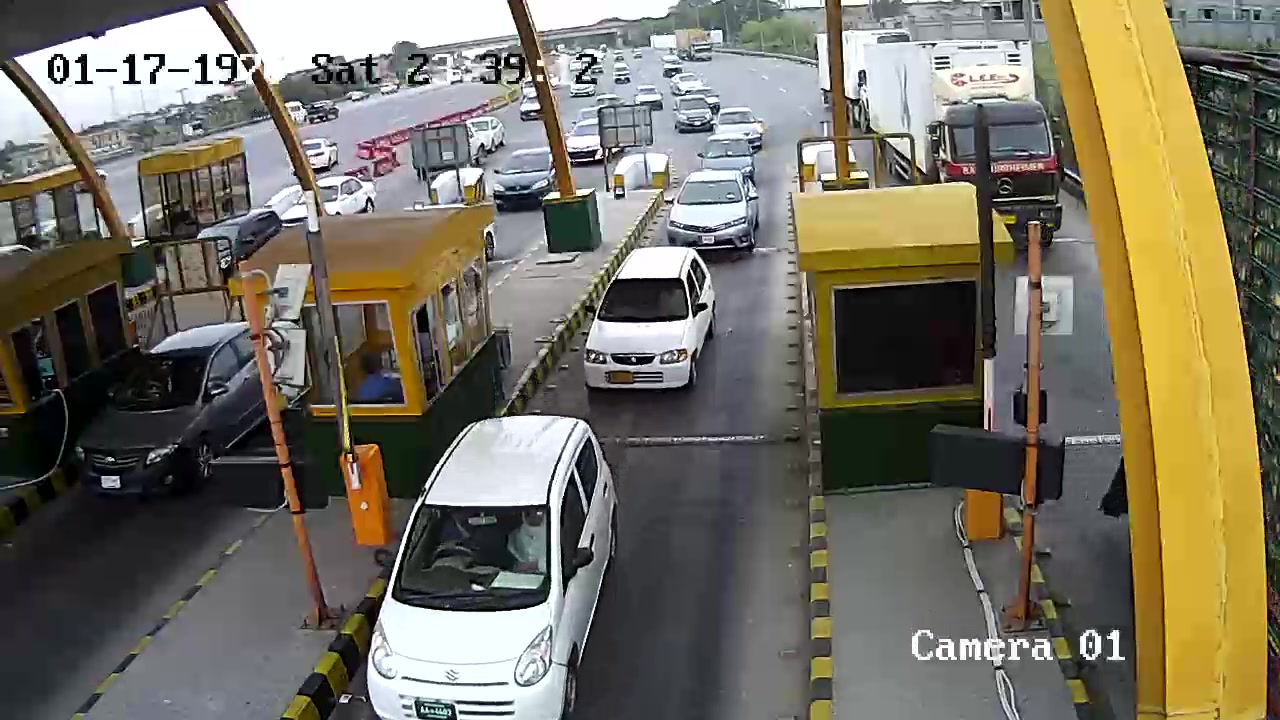F1: (356, 412, 636, 718), (570, 244, 726, 401)
